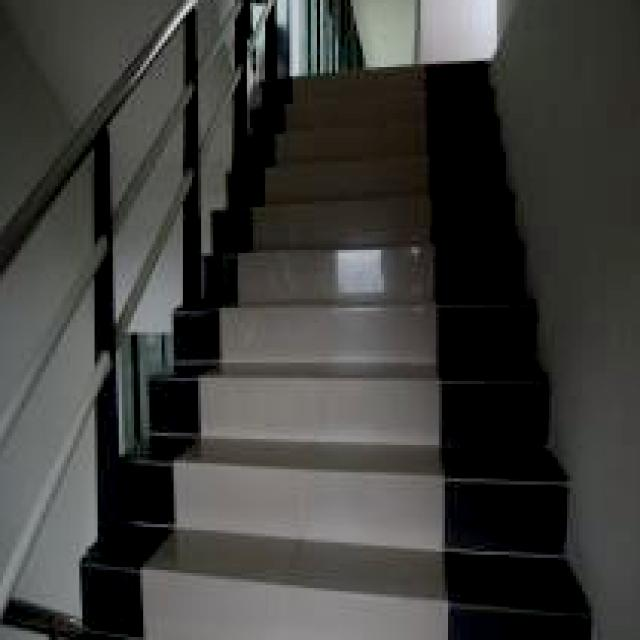upstair: (260, 65, 489, 640)
